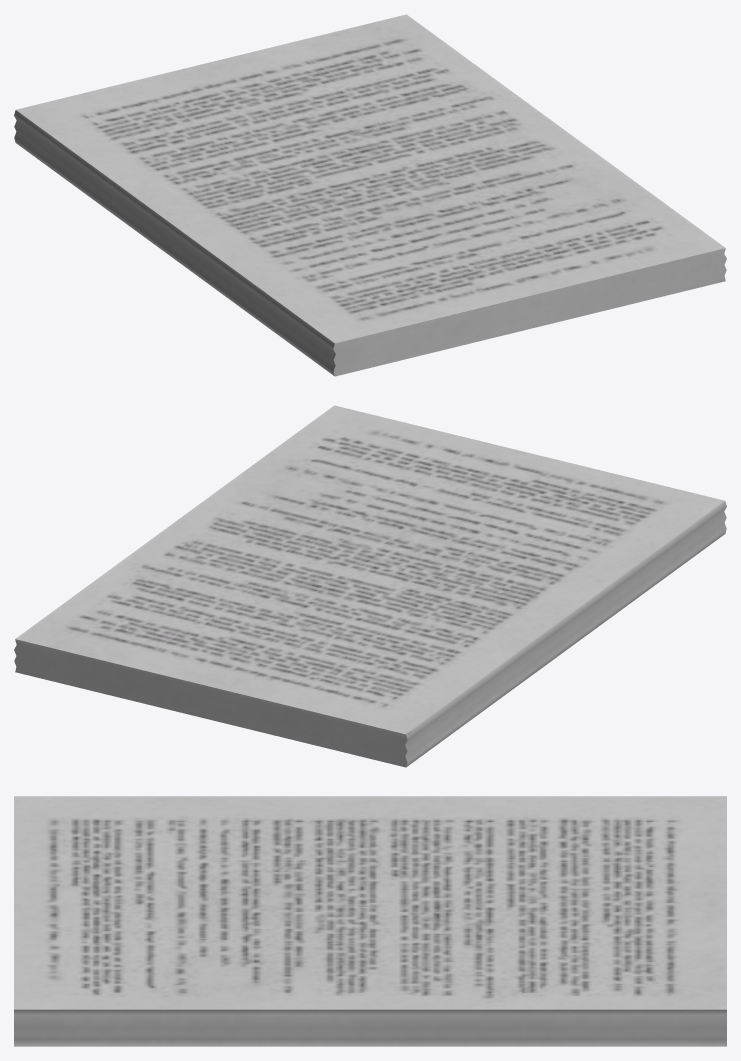
The model's file is FBX_Papers.fbx.
The picture shows the model from 3 angles, top to bottom: view 1: azimuth 30°, elevation 25°; view 2: azimuth 150°, elevation 25°; view 3: azimuth 270°, elevation 25°; orthographic projection. The views are drawn at different scales.
Visible parts, largest first — view 1: SM_Papers; view 2: SM_Papers; view 3: SM_Papers.
Boxes of the visible parts, x1,y1,x2,y2 form: SM_Papers: (14, 14, 726, 376); SM_Papers: (14, 405, 726, 767); SM_Papers: (14, 796, 726, 1046).
Bounding box in the file's own units: 0.2114 × 0.017 × 0.297.
